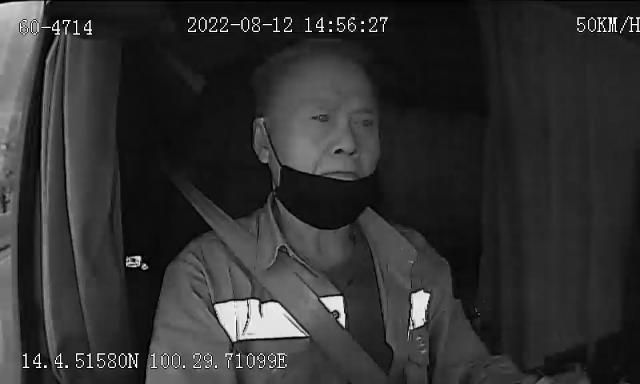SafeDriving: (346, 108, 380, 135), (304, 104, 338, 128)
Seatbelt: (185, 194, 401, 384)
